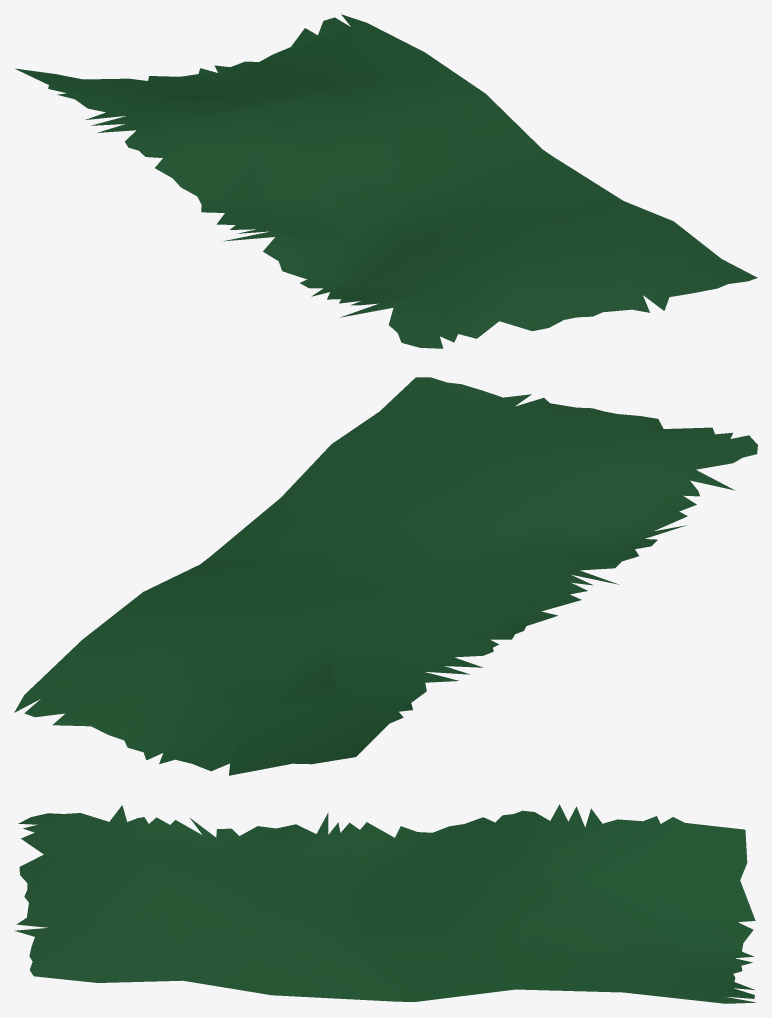
The model's file is payo_land_xm5_y4_lod2.glb.
The picture shows the model from 3 angles, top to bottom: view 1: azimuth 30°, elevation 25°; view 2: azimuth 150°, elevation 25°; view 3: azimuth 270°, elevation 25°; orthographic projection. The views are drawn at different scales.
Parts seen in each view (by area): view 1: payo_land_xm5_y4; view 2: payo_land_xm5_y4; view 3: payo_land_xm5_y4.
Part boxes in pixels (x1=…): payo_land_xm5_y4: x1=15, y1=14, x2=757, y2=348; payo_land_xm5_y4: x1=14, y1=377, x2=757, y2=775; payo_land_xm5_y4: x1=14, y1=804, x2=756, y2=1003.
Size of the model in its own units: 135 by 24.55 by 266.
